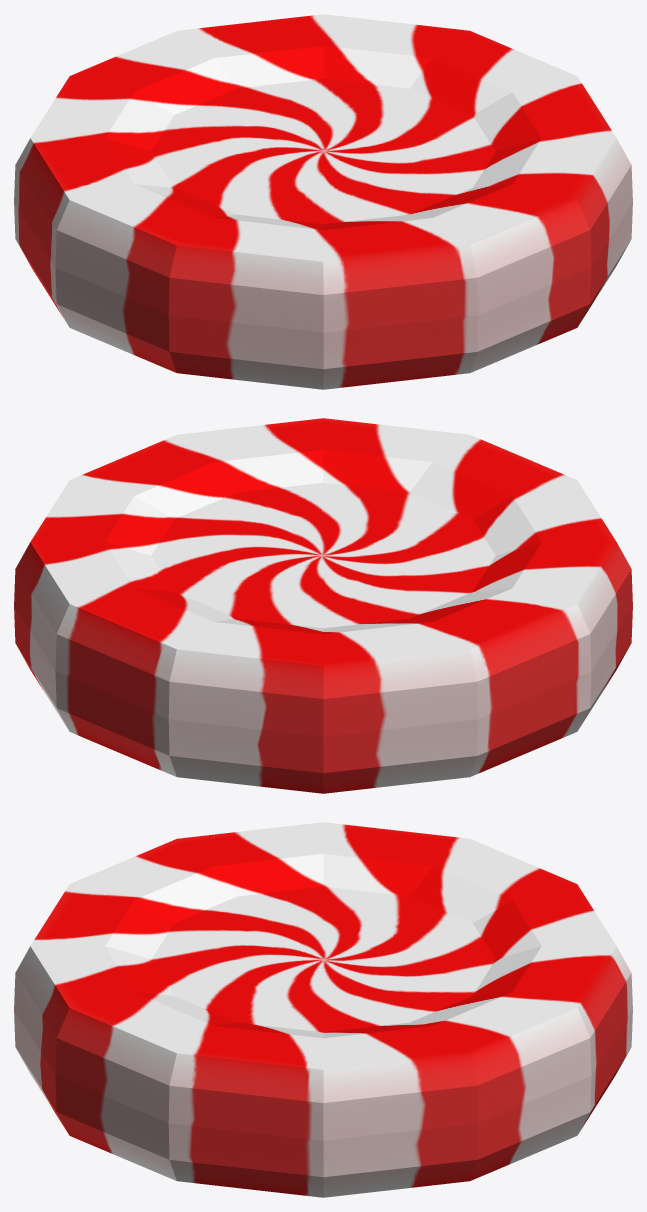
The model's file is peppermintCandy.obj.obj.
3 views of the same model, one above another, from view 1: azimuth 30°, elevation 25°; view 2: azimuth 150°, elevation 25°; view 3: azimuth 270°, elevation 25° (orthographic).
Bounding box in the file's own units: 2.11 × 0.4811 × 2.11.
